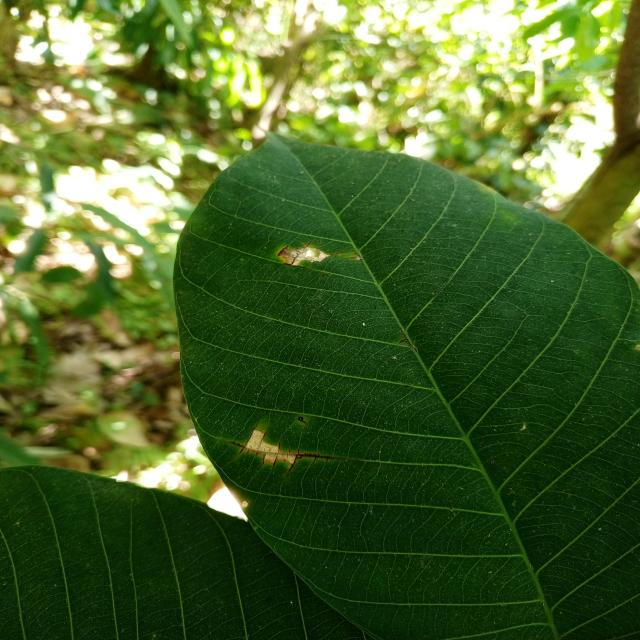Corynespora: (229, 424, 333, 475), (398, 326, 418, 352), (296, 416, 310, 426), (282, 263, 307, 268), (278, 245, 288, 257)
Leaf-Blight: (280, 247, 330, 265)
